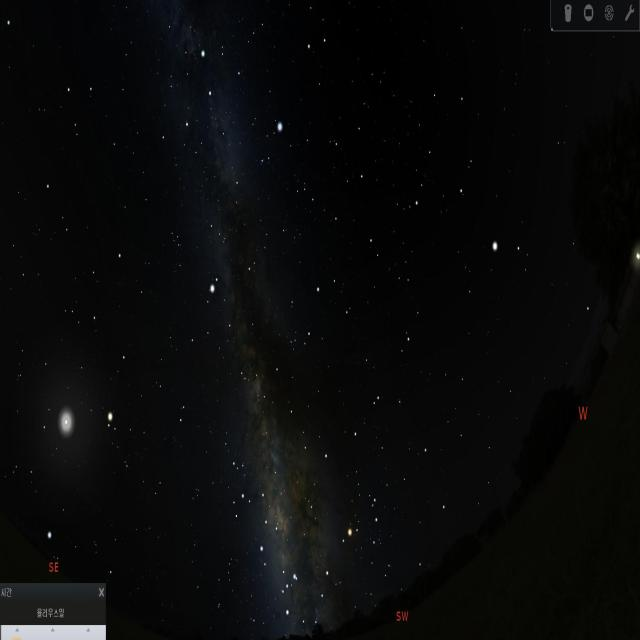aquila: (187, 251, 267, 391)
bootes: (413, 86, 532, 295)
cygnus: (183, 44, 245, 222)
lyra: (252, 114, 284, 173)
moon: (54, 399, 81, 454)
sagittarius: (213, 436, 274, 530)
scorpius: (278, 468, 387, 602)
